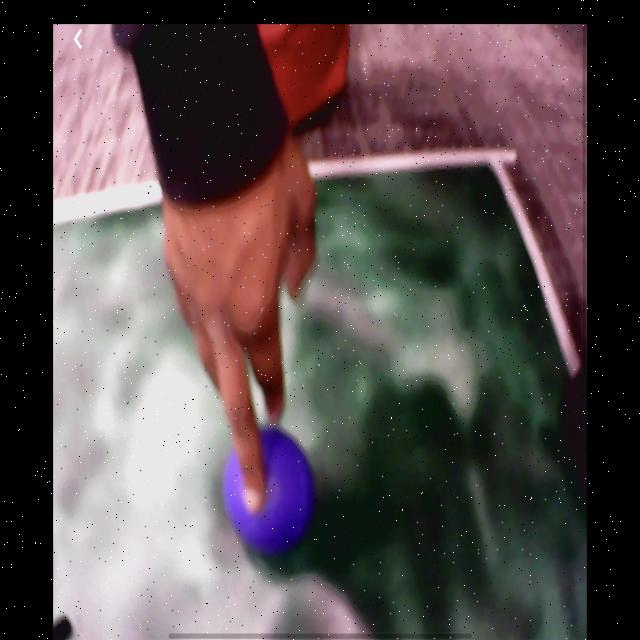ball: (221, 426, 317, 556)
